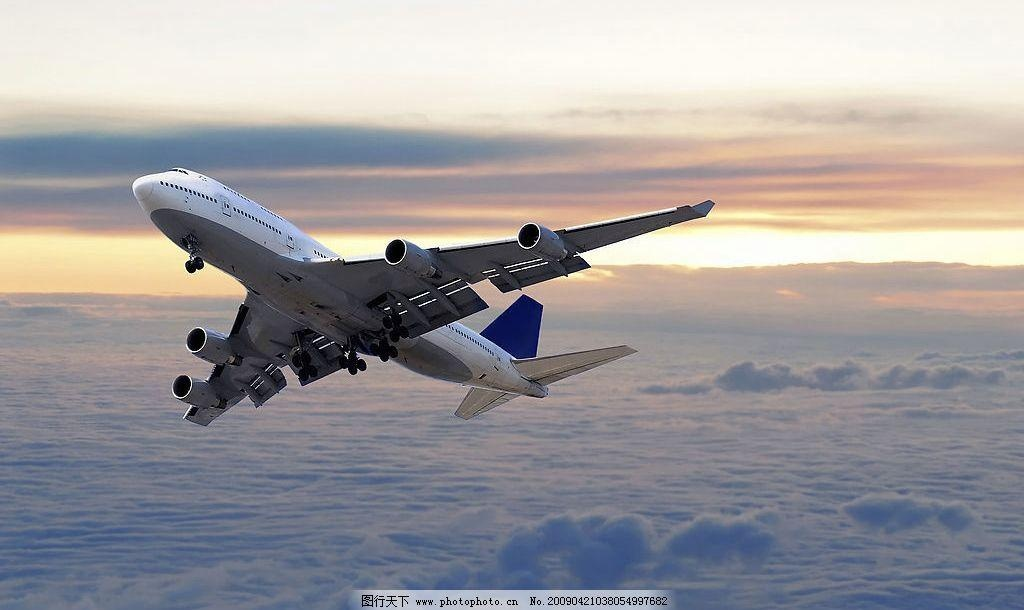airplane: (127, 164, 719, 443)
